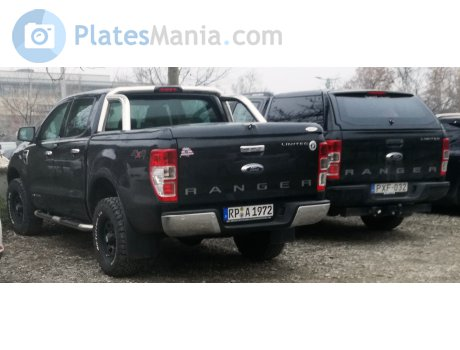License Plates: (224, 202, 276, 217)
